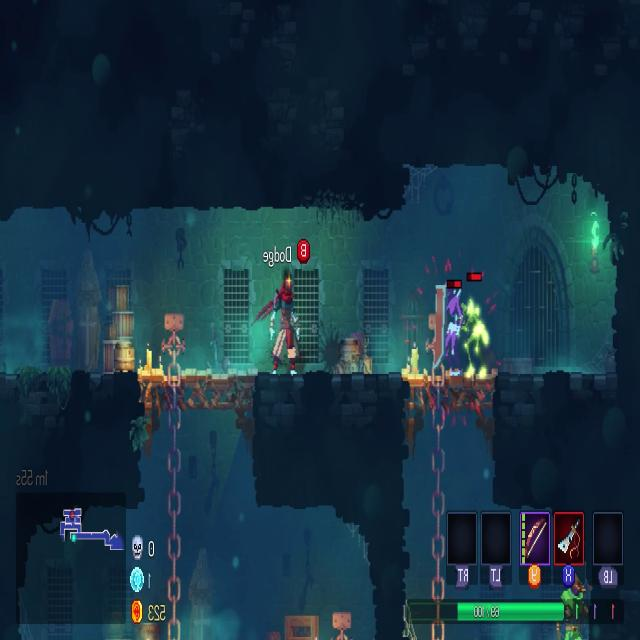agents: (268, 276, 300, 380)
enemy_archer: (558, 569, 586, 634)
enemy_green_puncher: (459, 290, 494, 382)
enemy_purple_shield: (427, 276, 461, 381)
wood_floor: (140, 369, 254, 412), (402, 372, 496, 412)
